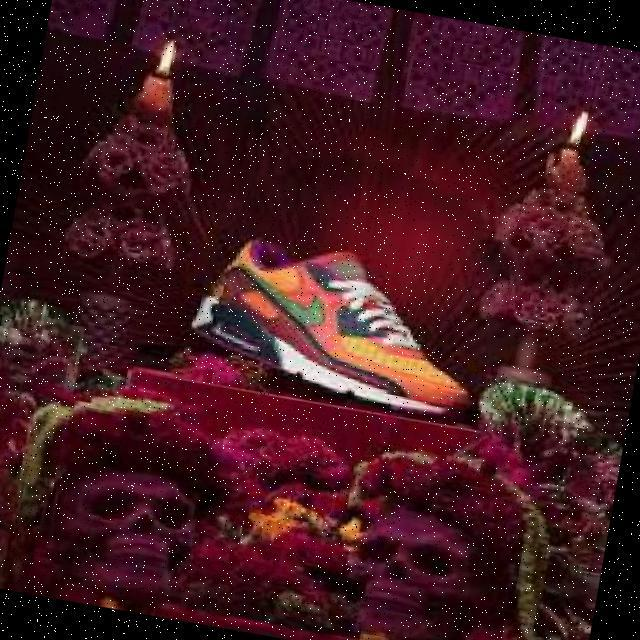Nike: (229, 272, 337, 331)
